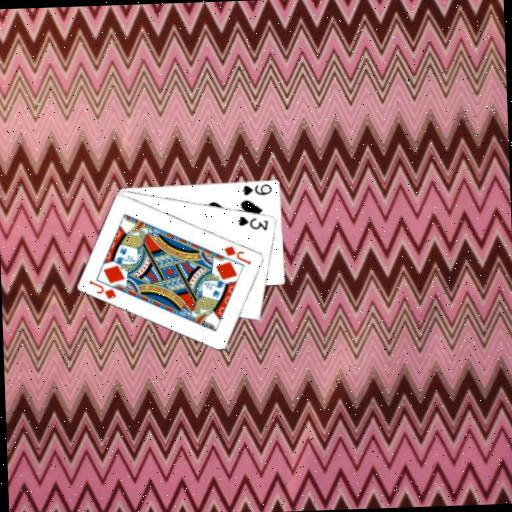3S: (235, 212, 270, 233)
9S: (238, 180, 273, 197)
JD: (221, 241, 253, 266), (86, 276, 118, 301)
